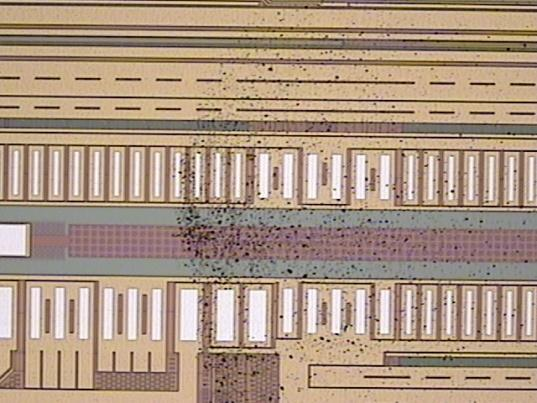PO CONTAMINATION: (170, 1, 537, 403)
